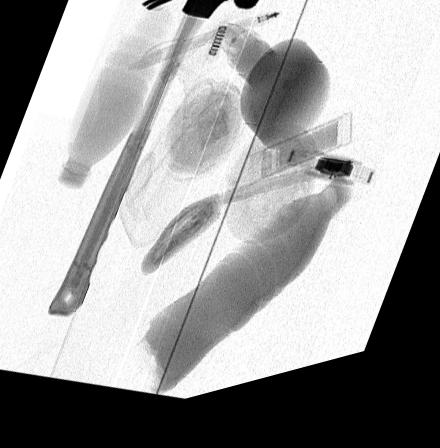Hammer: (48, 0, 263, 321)
